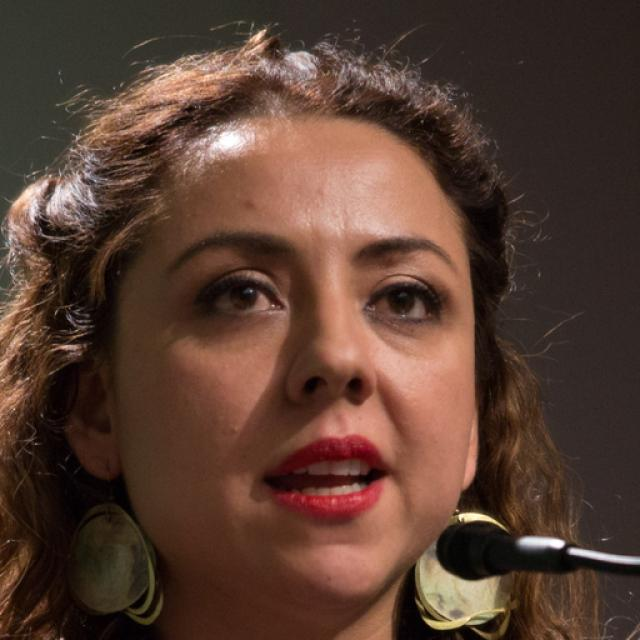Acne: (223, 413, 246, 442), (241, 196, 263, 217)
